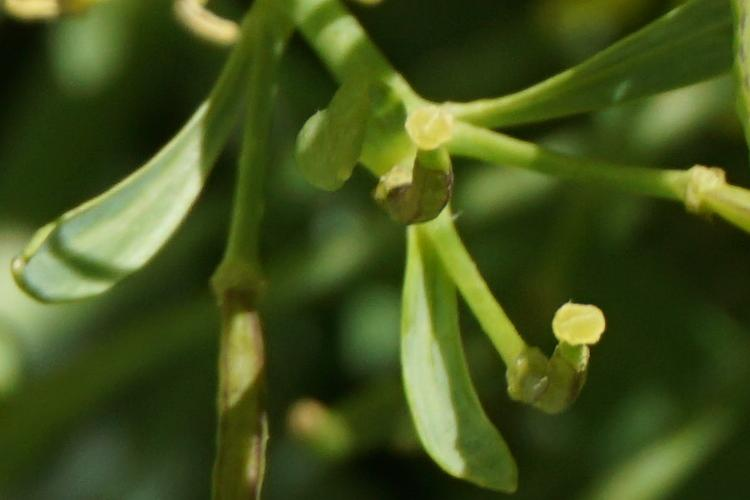pod: (289, 63, 460, 228), (459, 261, 639, 410)
